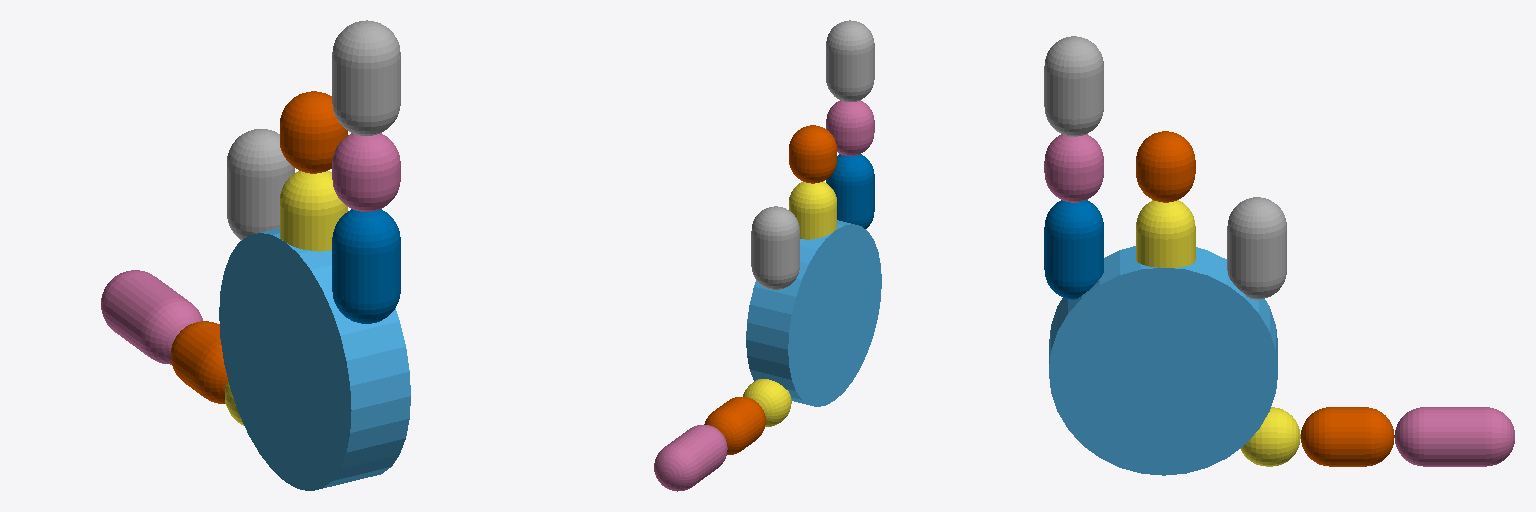
URDF robot description (DexterousHand):
<?xml version="1.0"?>
<robot name="DexterousHand">


    <link name="world"/>
    <joint name="world_to_palm" type="fixed">
        <parent link="world"/>
        <child link="palm"/>
        <origin xyz="0 0 0" rpy="0 0 0"/>
    </joint>
    <link name="palm">
        <inertial>
            <origin xyz="0 0 0.057" rpy="0 0 0"/>
            <mass value="0.30212892864"/>
            <inertia ixx="0.00049080844457568" ixy="0.0" ixz="0.0" iyy="0.00026746366246427523" iyz="0.0" izz="0.00026746366246427523"/>
        </inertial>
        <visual>
            <origin xyz="0 0 0.057" rpy="1.5708 0 1.5708"/>
            <geometry>
                <cylinder radius="0.057" length="0.0296"/>
            </geometry>
            <material name="default"/>
        </visual>
        <collision>
            <origin xyz="0 0 0.057" rpy="1.5708 0 1.5708"/>
            <geometry>
                <cylinder radius="0.057" length="0.0296"/>
            </geometry>
        </collision>
    </link>

    
    <joint name="thumb_joint1" type="revolute">
        <parent link="palm"/>
        <child link="thumb_base"/>
        <origin xyz="0.0029 0.0368 0.0157" rpy="-1.5708 -1.5708 0.0"/>
        <axis xyz="-1 0 0"/>
        <limit lower="-0.349" upper="2.094" effort="1.0" velocity="1.0"/>
    </joint>

    <link name="thumb_base"></link>

    <joint name="thumb_joint2" type="revolute">
        <parent link="thumb_base"/>
        <child link="thumb_proximal"/>
        <origin xyz="0.0 0.0 0.0" rpy="0.0 0.0 0.0"/>
        <axis xyz="0 0 1"/>
        <limit lower="-0.47" upper="2.443" effort="1.0" velocity="1.0"/>
    </joint>

    <link name="thumb_proximal">
        <inertial>
            <origin xyz="0 0 0.01565" rpy="0 0 0"/>
            <mass value="0.021538658803200002"/>
            <inertia ixx="2.9378910096388167e-06" ixy="0.0" ixz="0.0" 
            iyy="2.9378910096388167e-06" iyz="0.0" izz="2.358913912126464e-06"/>
        </inertial>
        <visual>
            <origin xyz="0 0 0.01565" rpy="0 0 0"/>
            <geometry>
                <cylinder radius="0.0148" length="0.0017000000000000001"/>
            </geometry>
            <material name="default"/>
        </visual>
        <visual>
            <origin xyz="0 0 0.0148" rpy="0 0 0"/>
            <geometry>
                <sphere radius="0.0148"/>
            </geometry>
            <material name="default"/>
        </visual>
        <visual>
            <origin xyz="0 0 0.0165" rpy="0 0 0"/>
            <geometry>
                <sphere radius="0.0148"/>
            </geometry>
            <material name="default"/>
        </visual>
        <collision>
            <origin xyz="0 0 0.01565" rpy="0 0 0"/>
            <geometry>
                <cylinder radius="0.0148" length="0.0017000000000000001"/>
            </geometry>
        </collision>
        <collision>
            <origin xyz="0 0 0.0148" rpy="0 0 0"/>
            <geometry>
                <sphere radius="0.0148"/>
            </geometry>
        </collision>
        <collision>
            <origin xyz="0 0 0.0165" rpy="0 0 0"/>
            <geometry>
                <sphere radius="0.0148"/>
            </geometry>
        </collision>
    </link>

    <joint name="thumb_joint3" type="revolute">
        <parent link="thumb_proximal"/>
        <child link="thumb_knuckle"/>
        <origin xyz="0.0 0.0 0.0313" rpy="0.0 0.0 0.0"/>
        <axis xyz="1 0 0"/>
        <limit lower="0.0" upper="0.0" effort="1.0" velocity="1.0"/>
    </joint>

    <link name="thumb_knuckle"></link>

    <joint name="thumb_joint4" type="revolute">
        <parent link="thumb_knuckle"/>
        <child link="thumb_middle"/>
        <origin xyz="0 0 0" rpy="0 0 0"/> 
        <axis xyz="0 1 0"/>
        <limit lower="-1.2" upper="1.9" effort="1.0" velocity="1.0"/>
    </joint>

    <link name="thumb_middle">
        <inertial>
            <origin xyz="0 0 0.0233" rpy="0 0 0"/>
            <mass value="0.032067140582400004"/>
            <inertia ixx="7.5589732685519385e-06" ixy="0.0" ixz="0.0" 
            iyy="7.5589732685519385e-06" iyz="0.0" izz="3.5119932365844485e-06"/>
        </inertial>
        <visual>
            <origin xyz="0 0 0.0233" rpy="0 0 0"/>
            <geometry>
                <cylinder radius="0.0148" length="0.017"/>
            </geometry>
            <material name="default"/>
        </visual>
        <visual>
            <origin xyz="0 0 0.0148" rpy="0 0 0"/>
            <geometry>
                <sphere radius="0.0148"/>
            </geometry>
            <material name="default"/>
        </visual>
        <visual>
            <origin xyz="0 0 0.0318" rpy="0 0 0"/>
            <geometry>
                <sphere radius="0.0148"/>
            </geometry>
            <material name="default"/>
        </visual>
        <collision>
            <origin xyz="0 0 0.0233" rpy="0 0 0"/>
            <geometry>
                <cylinder radius="0.0148" length="0.017"/>
            </geometry>
        </collision>
        <collision>
            <origin xyz="0 0 0.0148" rpy="0 0 0"/>
            <geometry>
                <sphere radius="0.0148"/>
            </geometry>
        </collision>
        <collision>
            <origin xyz="0 0 0.0318" rpy="0 0 0"/>
            <geometry>
                <sphere radius="0.0148"/>
            </geometry>
        </collision>
    </link>

    <joint name="thumb_joint5" type="revolute">
        <parent link="thumb_middle"/>
        <child link="thumb_distal"/>
        <origin xyz="0 0 0.0466" rpy="0 0 0"/> 
        <axis xyz="0 1 0"/>
        <limit lower="-1.34" upper="1.88" effort="1.0" velocity="1.0"/>
    </joint>

    <link name="thumb_distal">
        <inertial>
            <origin xyz="0 0 0.03" rpy="0 0 0"/>
            <mass value="0.04128816384"/>
            <inertia ixx="1.46473890038784e-05" ixy="0.0" ixz="0.0" 
            iyy="1.46473890038784e-05" iyz="0.0" izz="4.521879703756801e-06"/>
        </inertial>
        <visual>
            <origin xyz="0 0 0.03" rpy="0 0 0"/>
            <geometry>
                <cylinder radius="0.0148" length="0.030399999999999996"/>
            </geometry>
            <material name="default"/>
        </visual>
        <visual>
            <origin xyz="0 0 0.0148" rpy="0 0 0"/>
            <geometry>
                <sphere radius="0.0148"/>
            </geometry>
            <material name="default"/>
        </visual>
        <visual>
            <origin xyz="0 0 0.0452" rpy="0 0 0"/>
            <geometry>
                <sphere radius="0.0148"/>
            </geometry>
            <material name="default"/>
        </visual>
        <collision>
            <origin xyz="0 0 0.03" rpy="0 0 0"/>
            <geometry>
                <cylinder radius="0.0148" length="0.030399999999999996"/>
            </geometry>
        </collision>
        <collision>
            <origin xyz="0 0 0.0148" rpy="0 0 0"/>
            <geometry>
                <sphere radius="0.0148"/>
            </geometry>
        </collision>
        <collision>
            <origin xyz="0 0 0.0452" rpy="0 0 0"/>
            <geometry>
                <sphere radius="0.0148"/>
            </geometry>
        </collision>
    </link>

    
    <joint name="index_joint1" type="revolute">
        <parent link="palm"/>
        <child link="index_proximal"/>
        <origin xyz="0.0 0.0465 0.091" rpy="0.0 0.0 0.0"/>
        <axis xyz="0 1 0"/>
        <limit lower="-0.314" upper="2.23" effort="1.0" velocity="1.0"/>
    </joint>

    <link name="index_proximal">
        <inertial>
            <origin xyz="0 0 0.02655" rpy="0 0 0"/>
            <mass value="0.036540024998400006"/>
            <inertia ixx="1.058665009272394e-05" ixy="0.0" ixz="0.0" 
            iyy="1.058665009272394e-05" iyz="0.0" izz="4.001863537824769e-06"/>
        </inertial>
        <visual>
            <origin xyz="0 0 0.02655" rpy="0 0 0"/>
            <geometry>
                <cylinder radius="0.0148" length="0.0235"/>
            </geometry>
            <material name="default"/>
        </visual>
        <visual>
            <origin xyz="0 0 0.0148" rpy="0 0 0"/>
            <geometry>
                <sphere radius="0.0148"/>
            </geometry>
            <material name="default"/>
        </visual>
        <visual>
            <origin xyz="0 0 0.0383" rpy="0 0 0"/>
            <geometry>
                <sphere radius="0.0148"/>
            </geometry>
            <material name="default"/>
        </visual>
        <collision>
            <origin xyz="0 0 0.02655" rpy="0 0 0"/>
            <geometry>
                <cylinder radius="0.0148" length="0.0235"/>
            </geometry>
        </collision>
        <collision>
            <origin xyz="0 0 0.0148" rpy="0 0 0"/>
            <geometry>
                <sphere radius="0.0148"/>
            </geometry>
        </collision>
        <collision>
            <origin xyz="0 0 0.0383" rpy="0 0 0"/>
            <geometry>
                <sphere radius="0.0148"/>
            </geometry>
        </collision>
    </link>

    <joint name="index_joint2" type="revolute">
        <parent link="index_proximal"/>
        <child link="index_dummy"/>
        <origin xyz="0.0 0.0 0.038" rpy="0.0 0.0 0.0"/>
        <axis xyz="0 1 0"/>
        <limit lower="0.0" upper="0.0" effort="1.0" velocity="1.0"/>
    </joint>

    <link name="index_dummy"></link>

    <joint name="index_joint3" type="revolute">
        <parent link="index_dummy"/>
        <child link="index_middle"/>
        <origin xyz="0 0 0.015100000000000002" rpy="0 0 0"/>
        <axis xyz="0 1 0"/>
        <limit lower="0.0" upper="0.0" effort="1.0" velocity="1.0"/>
    </joint>

    <link name="index_middle">
    </link>

    <joint name="index_joint4" type="revolute">
        <parent link="index_middle"/>
        <child link="index_distal"/>
        <origin xyz="0 0 0" rpy="0 0 0"/> 
        <axis xyz="0 1 0"/>
        <limit lower="0.0" upper="0.0" effort="1.0" velocity="1.0"/>
    </joint>

    <link name="index_distal">
    </link>

    
    <joint name="middle_joint1" type="revolute">
        <parent link="palm"/>
        <child link="middle_proximal"/>
        <origin xyz="0.0 0.0011 0.091" rpy="0.0 0.0 0.0"/>
        <axis xyz="0 1 0"/>
        <limit lower="-0.314" upper="2.23" effort="1.0" velocity="1.0"/>
    </joint>

    <link name="middle_proximal">
        <inertial>
            <origin xyz="0 0 0.02655" rpy="0 0 0"/>
            <mass value="0.036540024998400006"/>
            <inertia ixx="1.058665009272394e-05" ixy="0.0" ixz="0.0" 
            iyy="1.058665009272394e-05" iyz="0.0" izz="4.001863537824769e-06"/>
        </inertial>
        <visual>
            <origin xyz="0 0 0.02655" rpy="0 0 0"/>
            <geometry>
                <cylinder radius="0.0148" length="0.0235"/>
            </geometry>
            <material name="default"/>
        </visual>
        <visual>
            <origin xyz="0 0 0.0148" rpy="0 0 0"/>
            <geometry>
                <sphere radius="0.0148"/>
            </geometry>
            <material name="default"/>
        </visual>
        <visual>
            <origin xyz="0 0 0.0383" rpy="0 0 0"/>
            <geometry>
                <sphere radius="0.0148"/>
            </geometry>
            <material name="default"/>
        </visual>
        <collision>
            <origin xyz="0 0 0.02655" rpy="0 0 0"/>
            <geometry>
                <cylinder radius="0.0148" length="0.0235"/>
            </geometry>
        </collision>
        <collision>
            <origin xyz="0 0 0.0148" rpy="0 0 0"/>
            <geometry>
                <sphere radius="0.0148"/>
            </geometry>
        </collision>
        <collision>
            <origin xyz="0 0 0.0383" rpy="0 0 0"/>
            <geometry>
                <sphere radius="0.0148"/>
            </geometry>
        </collision>
    </link>

    <joint name="middle_joint2" type="revolute">
        <parent link="middle_proximal"/>
        <child link="middle_dummy"/>
        <origin xyz="0.0 0.0 0.038" rpy="0.0 0.0 0.0"/>
        <axis xyz="1 0 0"/>
        <limit lower="-1.047" upper="1.047" effort="1.0" velocity="1.0"/>
    </joint>

    <link name="middle_dummy"></link>

    <joint name="middle_joint3" type="revolute">
        <parent link="middle_dummy"/>
        <child link="middle_middle"/>
        <origin xyz="0 0 0.015100000000000002" rpy="0 0 0"/>
        <axis xyz="0 1 0"/>
        <limit lower="-0.506" upper="1.885" effort="1.0" velocity="1.0"/>
    </joint>

    <link name="middle_middle">
        <inertial>
            <origin xyz="0 0 0.01805" rpy="0 0 0"/>
            <mass value="0.0248417119104"/>
            <inertia ixx="4.058162759109537e-06" ixy="0.0" ixz="0.0" 
            iyy="4.058162759109537e-06" iyz="0.0" izz="2.7206642884270085e-06"/>
        </inertial>
        <visual>
            <origin xyz="0 0 0.01805" rpy="0 0 0"/>
            <geometry>
                <cylinder radius="0.0148" length="0.006499999999999999"/>
            </geometry>
            <material name="default"/>
        </visual>
        <visual>
            <origin xyz="0 0 0.0148" rpy="0 0 0"/>
            <geometry>
                <sphere radius="0.0148"/>
            </geometry>
            <material name="default"/>
        </visual>
        <visual>
            <origin xyz="0 0 0.0213" rpy="0 0 0"/>
            <geometry>
                <sphere radius="0.0148"/>
            </geometry>
            <material name="default"/>
        </visual>
        <collision>
            <origin xyz="0 0 0.01805" rpy="0 0 0"/>
            <geometry>
                <cylinder radius="0.0148" length="0.006499999999999999"/>
            </geometry>
        </collision>
        <collision>
            <origin xyz="0 0 0.0148" rpy="0 0 0"/>
            <geometry>
                <sphere radius="0.0148"/>
            </geometry>
        </collision>
        <collision>
            <origin xyz="0 0 0.0213" rpy="0 0 0"/>
            <geometry>
                <sphere radius="0.0148"/>
            </geometry>
        </collision>
    </link>

    <joint name="middle_joint4" type="revolute">
        <parent link="middle_middle"/>
        <child link="middle_distal"/>
        <origin xyz="0 0 0.0361" rpy="0 0 0"/> 
        <axis xyz="0 1 0"/>
        <limit lower="0.0" upper="0.0" effort="1.0" velocity="1.0"/>
    </joint>

    <link name="middle_distal">
    </link>

    
    <joint name="ring_joint1" type="revolute">
        <parent link="palm"/>
        <child link="ring_proximal"/>
        <origin xyz="0.0 0.0 0.0" rpy="0.0 0.0 0.0"/>
        <axis xyz="1 0 0"/>
        <limit lower="0.0" upper="0.0" effort="1.0" velocity="1.0"/>
    </joint>

    <link name="ring_proximal">
    </link>

    <joint name="ring_joint2" type="revolute">
        <parent link="ring_proximal"/>
        <child link="ring_dummy"/>
        <origin xyz="0.0 0.0 0.0" rpy="0.0 0.0 0.0"/>
        <axis xyz="0 1 0"/>
        <limit lower="0.0" upper="0.0" effort="1.0" velocity="1.0"/>
    </joint>

    <link name="ring_dummy"></link>

    <joint name="ring_joint3" type="revolute">
        <parent link="ring_dummy"/>
        <child link="ring_middle"/>
        <origin xyz="0 0 0" rpy="0 0 0"/>
        <axis xyz="0 1 0"/>
        <limit lower="0.0" upper="0.0" effort="1.0" velocity="1.0"/>
    </joint>

    <link name="ring_middle">
    </link>

    <joint name="ring_joint4" type="revolute">
        <parent link="ring_middle"/>
        <child link="ring_distal"/>
        <origin xyz="0 0 0" rpy="0 0 0"/> 
        <axis xyz="0 1 0"/>
        <limit lower="0.0" upper="0.0" effort="1.0" velocity="1.0"/>
    </joint>

    <link name="ring_distal">
    </link>

    
    <joint name="little_joint0" type="revolute">
        <parent link="palm"/>
        <child link="little_base"/>
        <origin xyz="0.0 0.0 0.0" rpy="0.0 0.0 0.0"/>
        <axis xyz="0 1 0"/>
        <limit lower="0.0" upper="0.0" effort="1.0" velocity="1.0"/>
    </joint>

    <link name="little_base"></link>

    <joint name="little_joint1" type="revolute">
        <parent link="little_base"/>
        <child link="little_proximal"/>
        <origin xyz="0.0 -0.0443 0.091" rpy="-0.0 -0.0 -0.0"/>
        <axis xyz="0 1 0"/>
        <limit lower="-0.314" upper="2.23" effort="1.0" velocity="1.0"/>
    </joint>

    <link name="little_proximal">
        <inertial>
            <origin xyz="0 0 0.02655" rpy="0 0 0"/>
            <mass value="0.036540024998400006"/>
            <inertia ixx="1.058665009272394e-05" ixy="0.0" ixz="0.0" 
            iyy="1.058665009272394e-05" iyz="0.0" izz="4.001863537824769e-06"/>
        </inertial>
        <visual>
            <origin xyz="0 0 0.02655" rpy="0 0 0"/>
            <geometry>
                <cylinder radius="0.0148" length="0.0235"/>
            </geometry>
            <material name="default"/>
        </visual>
        <visual>
            <origin xyz="0 0 0.0148" rpy="0 0 0"/>
            <geometry>
                <sphere radius="0.0148"/>
            </geometry>
            <material name="default"/>
        </visual>
        <visual>
            <origin xyz="0 0 0.0383" rpy="0 0 0"/>
            <geometry>
                <sphere radius="0.0148"/>
            </geometry>
            <material name="default"/>
        </visual>
        <collision>
            <origin xyz="0 0 0.02655" rpy="0 0 0"/>
            <geometry>
                <cylinder radius="0.0148" length="0.0235"/>
            </geometry>
        </collision>
        <collision>
            <origin xyz="0 0 0.0148" rpy="0 0 0"/>
            <geometry>
                <sphere radius="0.0148"/>
            </geometry>
        </collision>
        <collision>
            <origin xyz="0 0 0.0383" rpy="0 0 0"/>
            <geometry>
                <sphere radius="0.0148"/>
            </geometry>
        </collision>
    </link>

    <joint name="little_joint2" type="revolute">
        <parent link="little_proximal"/>
        <child link="little_dummy"/>
        <origin xyz="0.0 0.0 0.038" rpy="0.0 0.0 0.0"/>
        <axis xyz="1 0 0"/>
        <limit lower="-1.047" upper="1.047" effort="1.0" velocity="1.0"/>
    </joint>

    <link name="little_dummy"></link>

    <joint name="little_joint3" type="revolute">
        <parent link="little_dummy"/>
        <child link="little_middle"/>
        <origin xyz="0 0 0.015100000000000002" rpy="0 0 0"/>
        <axis xyz="0 1 0"/>
        <limit lower="-0.506" upper="1.885" effort="1.0" velocity="1.0"/>
    </joint>

    <link name="little_middle">
        <inertial>
            <origin xyz="0 0 0.01805" rpy="0 0 0"/>
            <mass value="0.0248417119104"/>
            <inertia ixx="4.058162759109537e-06" ixy="0.0" ixz="0.0" 
            iyy="4.058162759109537e-06" iyz="0.0" izz="2.7206642884270085e-06"/>
        </inertial>
        <visual>
            <origin xyz="0 0 0.01805" rpy="0 0 0"/>
            <geometry>
                <cylinder radius="0.0148" length="0.006499999999999999"/>
            </geometry>
            <material name="default"/>
        </visual>
        <visual>
            <origin xyz="0 0 0.0148" rpy="0 0 0"/>
            <geometry>
                <sphere radius="0.0148"/>
            </geometry>
            <material name="default"/>
        </visual>
        <visual>
            <origin xyz="0 0 0.0213" rpy="0 0 0"/>
            <geometry>
                <sphere radius="0.0148"/>
            </geometry>
            <material name="default"/>
        </visual>
        <collision>
            <origin xyz="0 0 0.01805" rpy="0 0 0"/>
            <geometry>
                <cylinder radius="0.0148" length="0.006499999999999999"/>
            </geometry>
        </collision>
        <collision>
            <origin xyz="0 0 0.0148" rpy="0 0 0"/>
            <geometry>
                <sphere radius="0.0148"/>
            </geometry>
        </collision>
        <collision>
            <origin xyz="0 0 0.0213" rpy="0 0 0"/>
            <geometry>
                <sphere radius="0.0148"/>
            </geometry>
        </collision>
    </link>

    <joint name="little_joint4" type="revolute">
        <parent link="little_middle"/>
        <child link="little_distal"/>
        <origin xyz="0 0 0.0361" rpy="0 0 0"/>
        <axis xyz="0 1 0"/>
        <limit lower="-0.366" upper="2.042" effort="1.0" velocity="1.0"/>
    </joint>

    <link name="little_distal">
        <inertial>
            <origin xyz="0 0 0.026" rpy="0 0 0"/>
            <mass value="0.035783075328"/>
            <inertia ixx="1.002260084553728e-05" ixy="0.0" ixz="0.0" 
            iyy="1.002260084553728e-05" iyz="0.0" izz="3.91896240992256e-06"/>
        </inertial>
        <visual>
            <origin xyz="0 0 0.026" rpy="0 0 0"/>
            <geometry>
                <cylinder radius="0.0148" length="0.022399999999999996"/>
            </geometry>
            <material name="default"/>
        </visual>
        <visual>
            <origin xyz="0 0 0.0148" rpy="0 0 0"/>
            <geometry>
                <sphere radius="0.0148"/>
            </geometry>
            <material name="default"/>
        </visual>
        <visual>
            <origin xyz="0 0 0.0372" rpy="0 0 0"/>
            <geometry>
                <sphere radius="0.0148"/>
            </geometry>
            <material name="default"/>
        </visual>
        <collision>
            <origin xyz="0 0 0.026" rpy="0 0 0"/>
            <geometry>
                <cylinder radius="0.0148" length="0.022399999999999996"/>
            </geometry>
        </collision>
        <collision>
            <origin xyz="0 0 0.0148" rpy="0 0 0"/>
            <geometry>
                <sphere radius="0.0148"/>
            </geometry>
        </collision>
        <collision>
            <origin xyz="0 0 0.0372" rpy="0 0 0"/>
            <geometry>
                <sphere radius="0.0148"/>
            </geometry>
        </collision>
    </link>

</robot>

--- Render facts (derived) ---
3 views of the same robot in one strip: view 1: azimuth 30°, elevation 25°; view 2: azimuth 150°, elevation 25°; view 3: azimuth 270°, elevation 25° (orthographic).
Robot: DexterousHand — 24 links, 23 joints (22 revolute, 1 fixed); root link world; default pose: all joints at 0.
Links seen in each view (by area): view 1: palm, little_proximal, little_distal, thumb_distal, index_proximal, little_middle, middle_proximal, middle_middle, thumb_middle; view 2: palm, index_proximal, little_distal, thumb_distal, little_proximal, middle_middle, middle_proximal, thumb_middle, little_middle, thumb_proximal; view 3: palm, thumb_distal, index_proximal, little_distal, little_proximal, thumb_middle, middle_proximal, middle_middle, little_middle, thumb_proximal.
Link boxes in pixels (x1,y1,x2,y2): palm: (219, 228, 410, 490); little_proximal: (332, 209, 400, 323); little_distal: (332, 20, 400, 135); thumb_distal: (101, 270, 202, 364); index_proximal: (227, 129, 294, 240); little_middle: (332, 133, 400, 211); middle_proximal: (280, 171, 347, 251); middle_middle: (280, 91, 347, 173); thumb_middle: (171, 321, 227, 403); palm: (746, 220, 881, 406); index_proximal: (751, 206, 799, 289); little_distal: (826, 20, 874, 101); thumb_distal: (654, 425, 727, 491); little_proximal: (826, 154, 874, 228); middle_middle: (789, 125, 836, 183); middle_proximal: (789, 181, 836, 239); thumb_middle: (704, 397, 765, 454); little_middle: (826, 100, 874, 155); thumb_proximal: (743, 379, 791, 426); palm: (1049, 246, 1277, 475); thumb_distal: (1395, 407, 1514, 466); index_proximal: (1227, 197, 1286, 299); little_distal: (1044, 36, 1103, 136); little_proximal: (1044, 200, 1103, 299); thumb_middle: (1301, 407, 1394, 466); middle_proximal: (1136, 200, 1195, 267); middle_middle: (1136, 131, 1195, 202); little_middle: (1044, 134, 1103, 202); thumb_proximal: (1240, 407, 1300, 466).
Size in the robot's own frame: 0.0325 by 0.2338 by 0.2322 metres.
Geometry: primitives only (box / cylinder / sphere), no mesh files.
